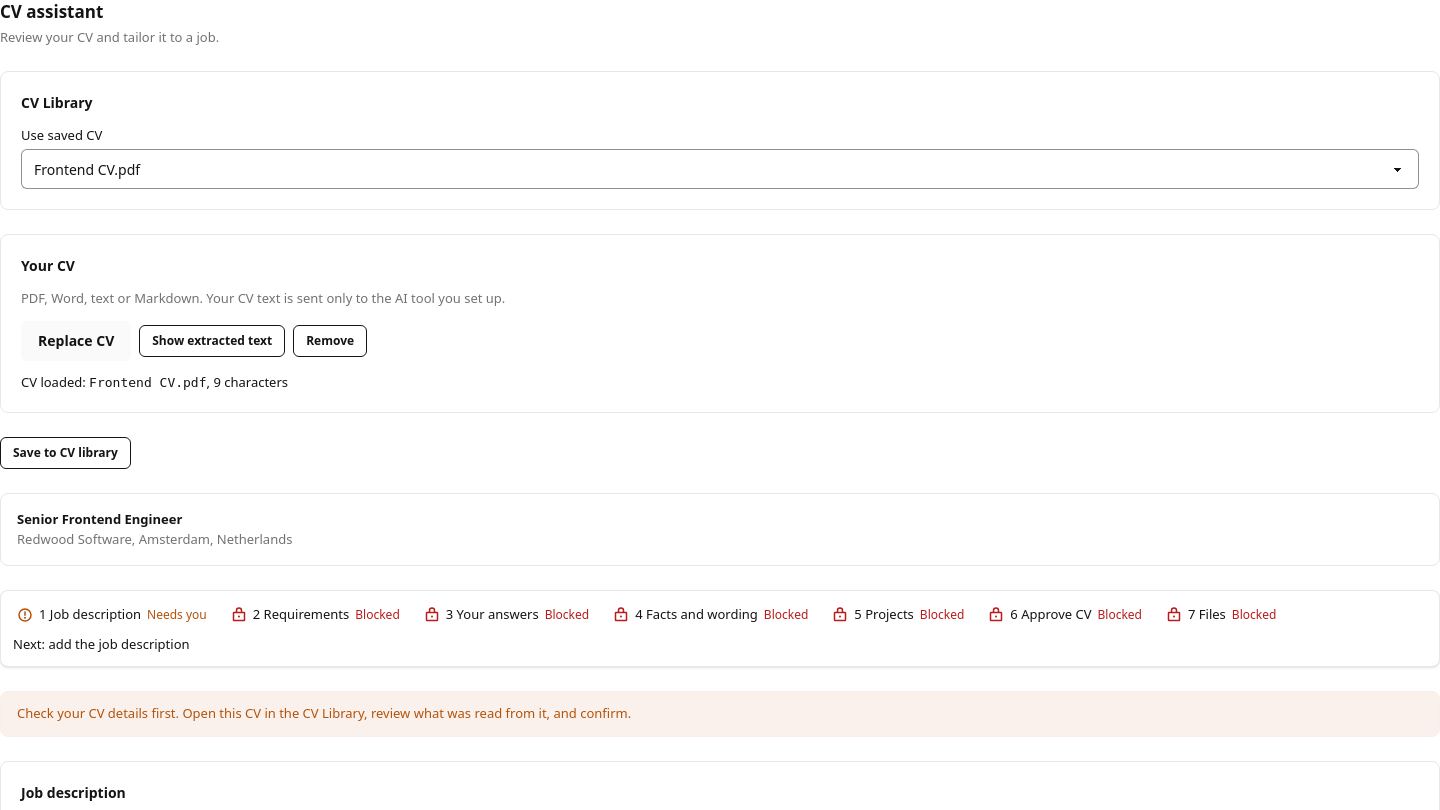
Test case: CvAssistant › switches library CVs and still allows a one-off upload fallback
expect the text "CV loaded: Frontend CV.pdf, 9 characters" is shown: met, box [21,373,288,391]
Select "Backend CV.pdf" in the dropdown labelled "Use saved CV" at (720, 170), box [21,150,1419,190]
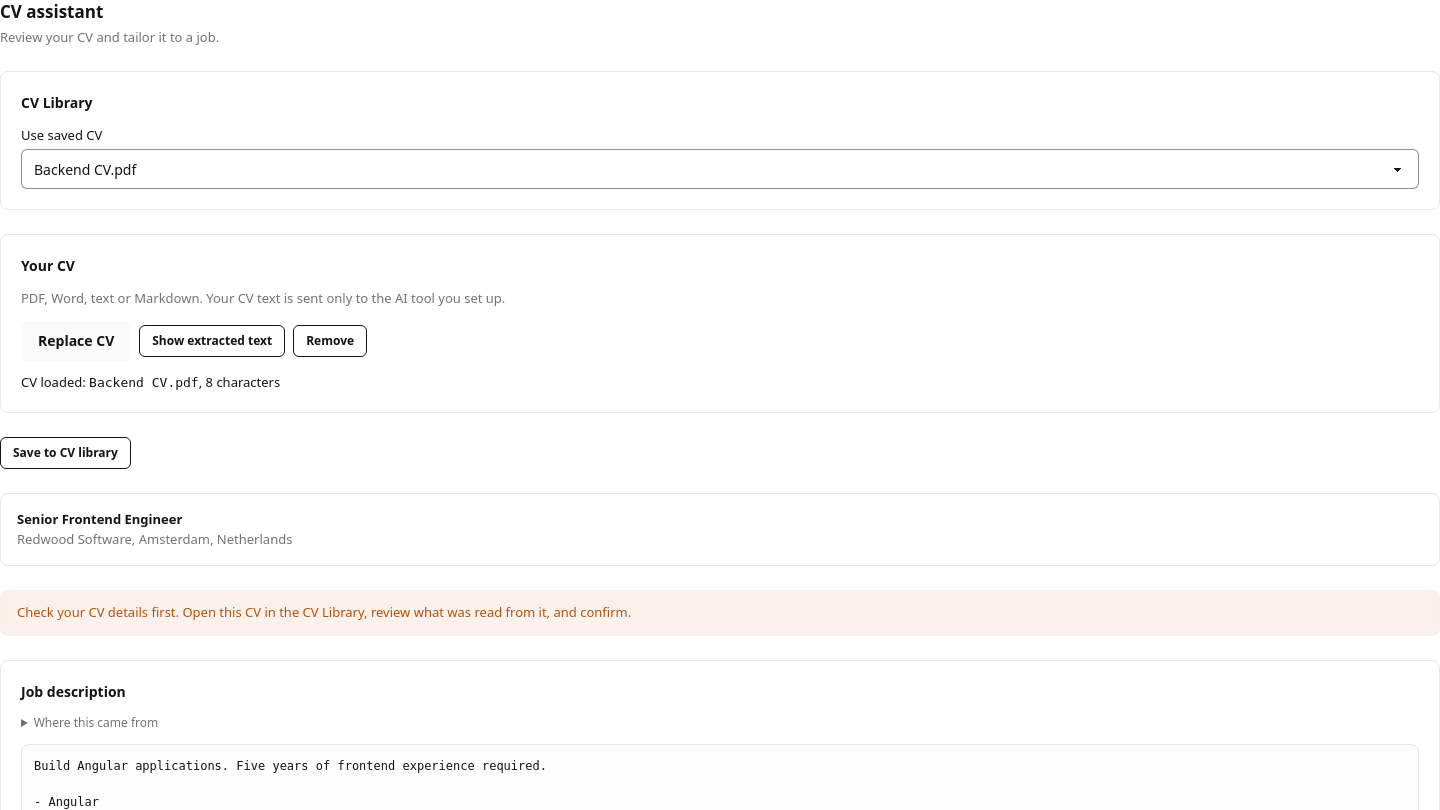
expect the text "CV loaded: Backend CV.pdf, 8 characters" is shown: met, box [21,373,280,391]
Click the button "Replace CV".
click(76, 341)  # box [21,321,131,361]
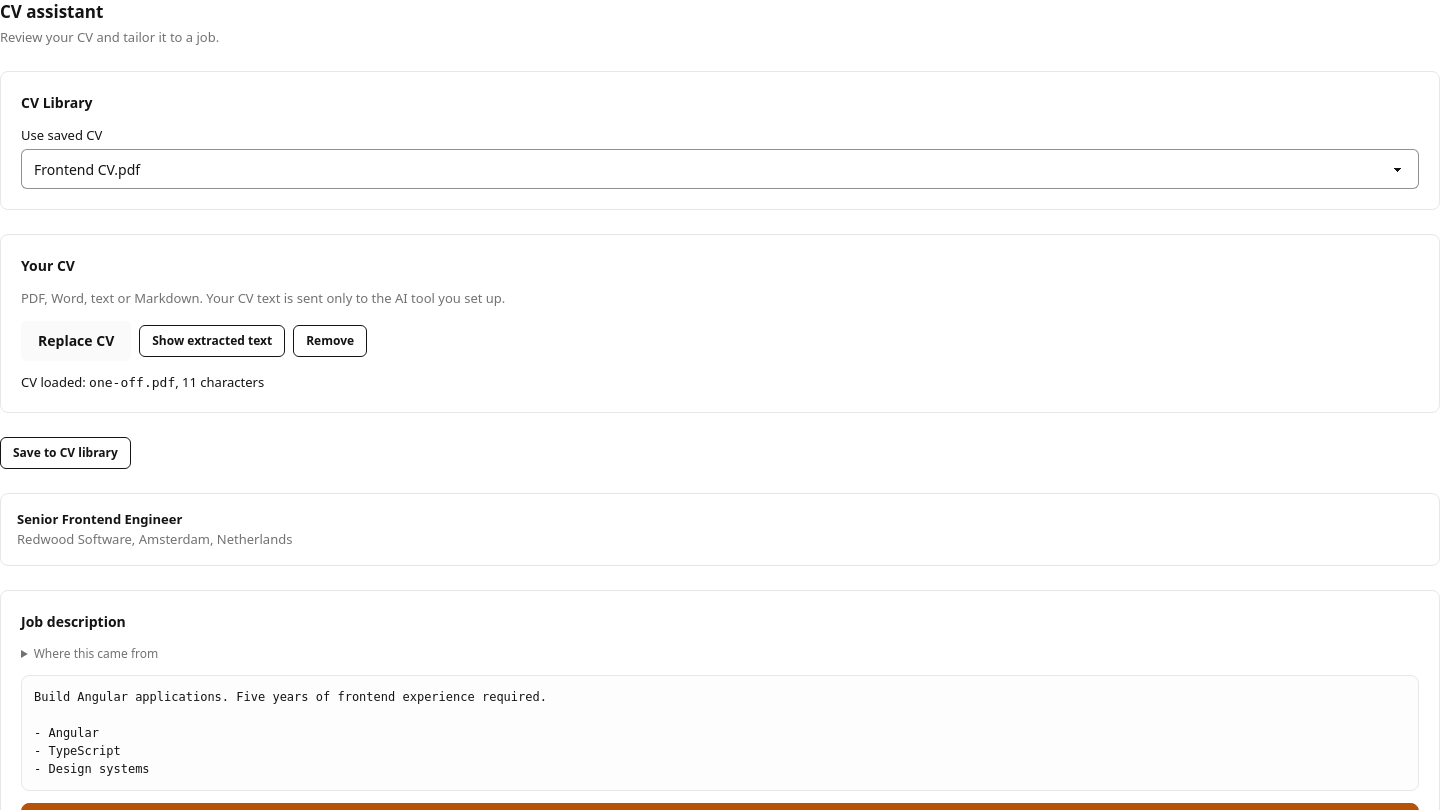
expect the text "CV loaded: one-off.pdf, 11 characters" is shown: met, box [21,373,264,391]
